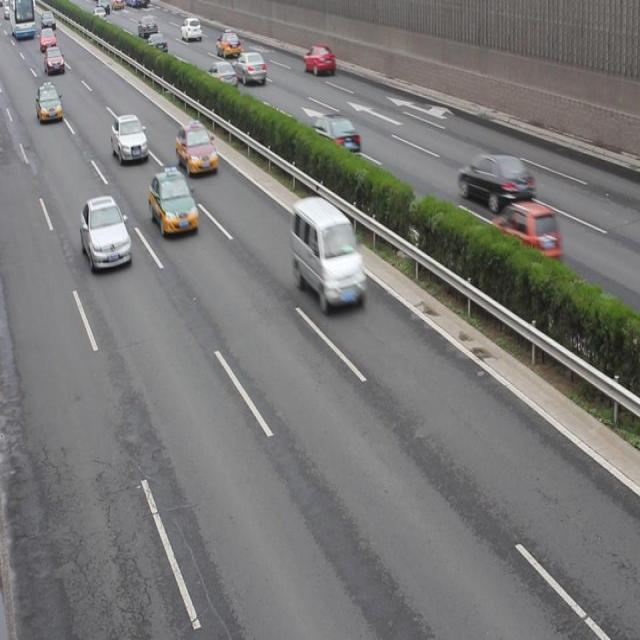car: (457, 150, 532, 208), (491, 203, 561, 264), (80, 198, 132, 274), (149, 170, 197, 237), (176, 121, 218, 176), (309, 114, 360, 158), (110, 113, 149, 164), (233, 51, 265, 86), (302, 44, 333, 78), (37, 84, 62, 122), (207, 61, 236, 90), (216, 29, 241, 60), (46, 46, 66, 74), (144, 32, 167, 55), (181, 17, 202, 41), (138, 17, 157, 40)
truck: (290, 196, 365, 310)
